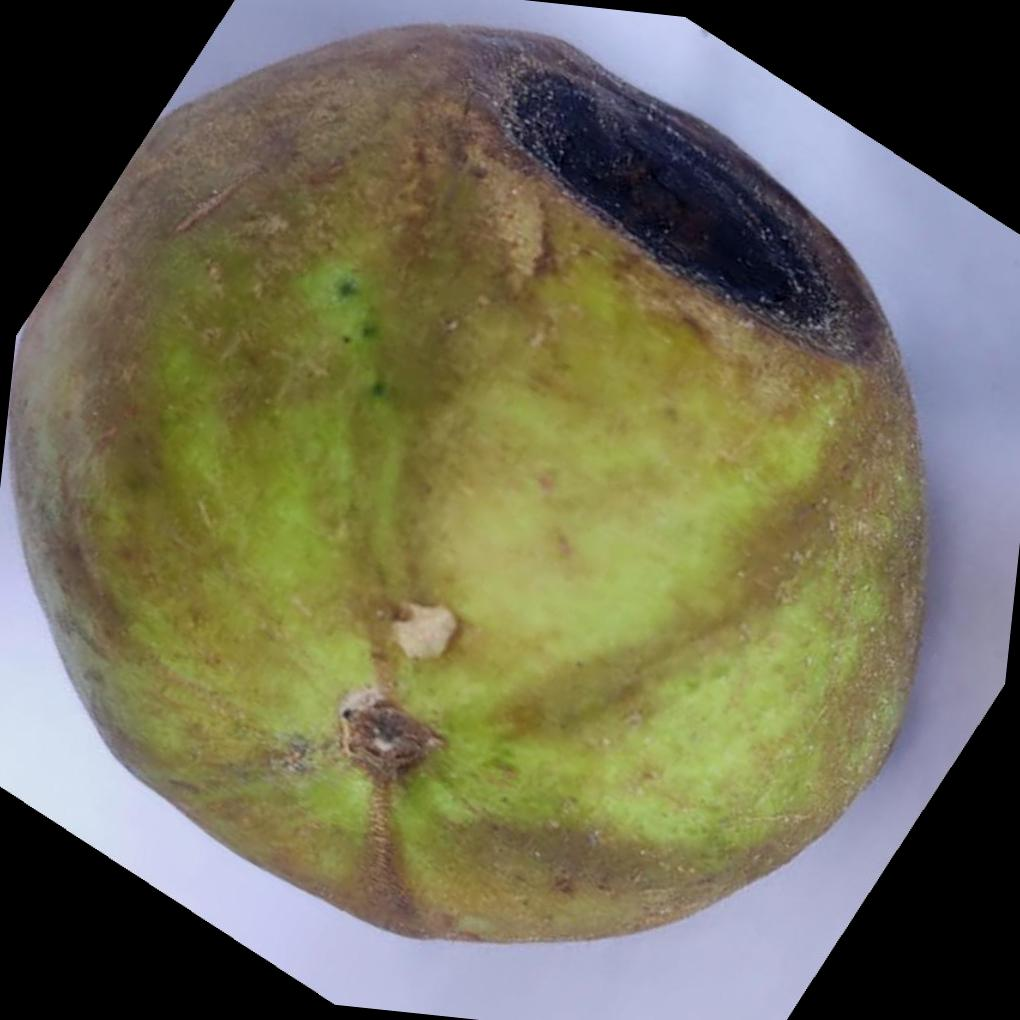FreshOrange: (8, 23, 934, 947)
